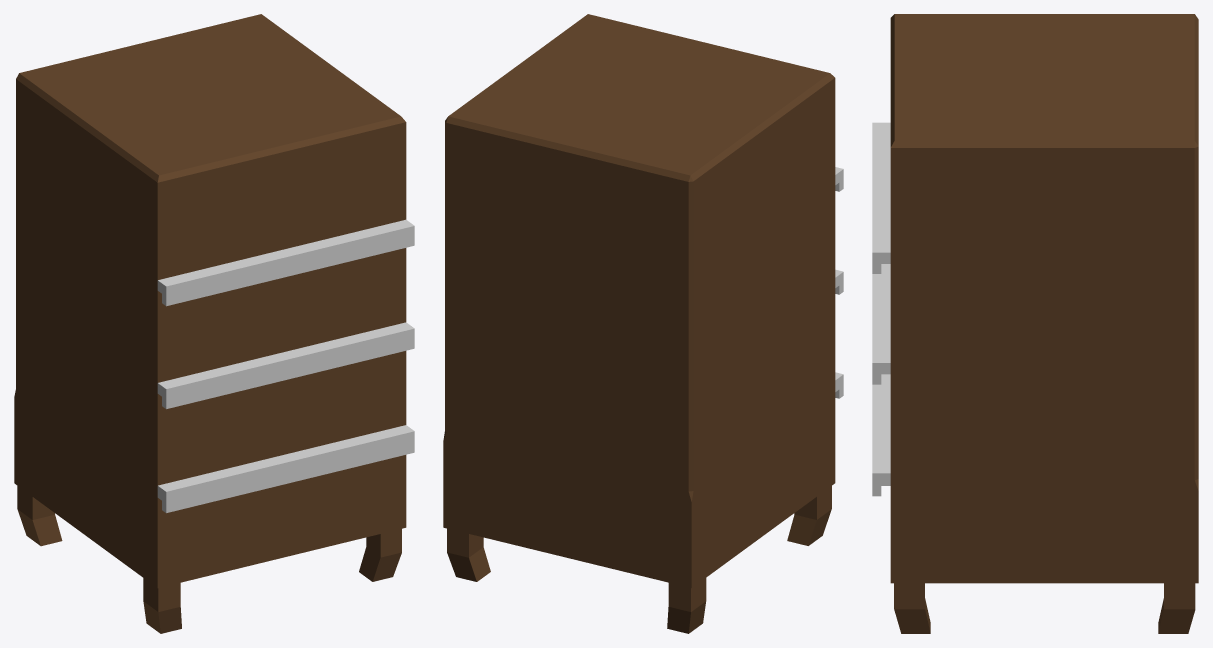
The model's file is commode_3_tiroirs.fbx.
3 views of the same model, side by side, from view 1: azimuth 30°, elevation 25°; view 2: azimuth 150°, elevation 25°; view 3: azimuth 270°, elevation 25° (orthographic). The views are drawn at different scales.
Visible parts, largest first — view 1: Cube; view 2: Cube; view 3: Cube.
Part boxes in pixels (x1,y1,x2,y2): Cube: [14, 14, 414, 633]; Cube: [443, 14, 843, 633]; Cube: [872, 14, 1198, 633].
Size of the model in its own units: 200 by 355 by 212.
